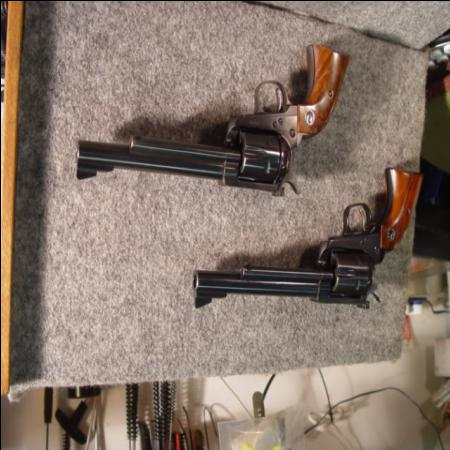Pistol: (73, 49, 351, 196), (190, 163, 426, 315)
